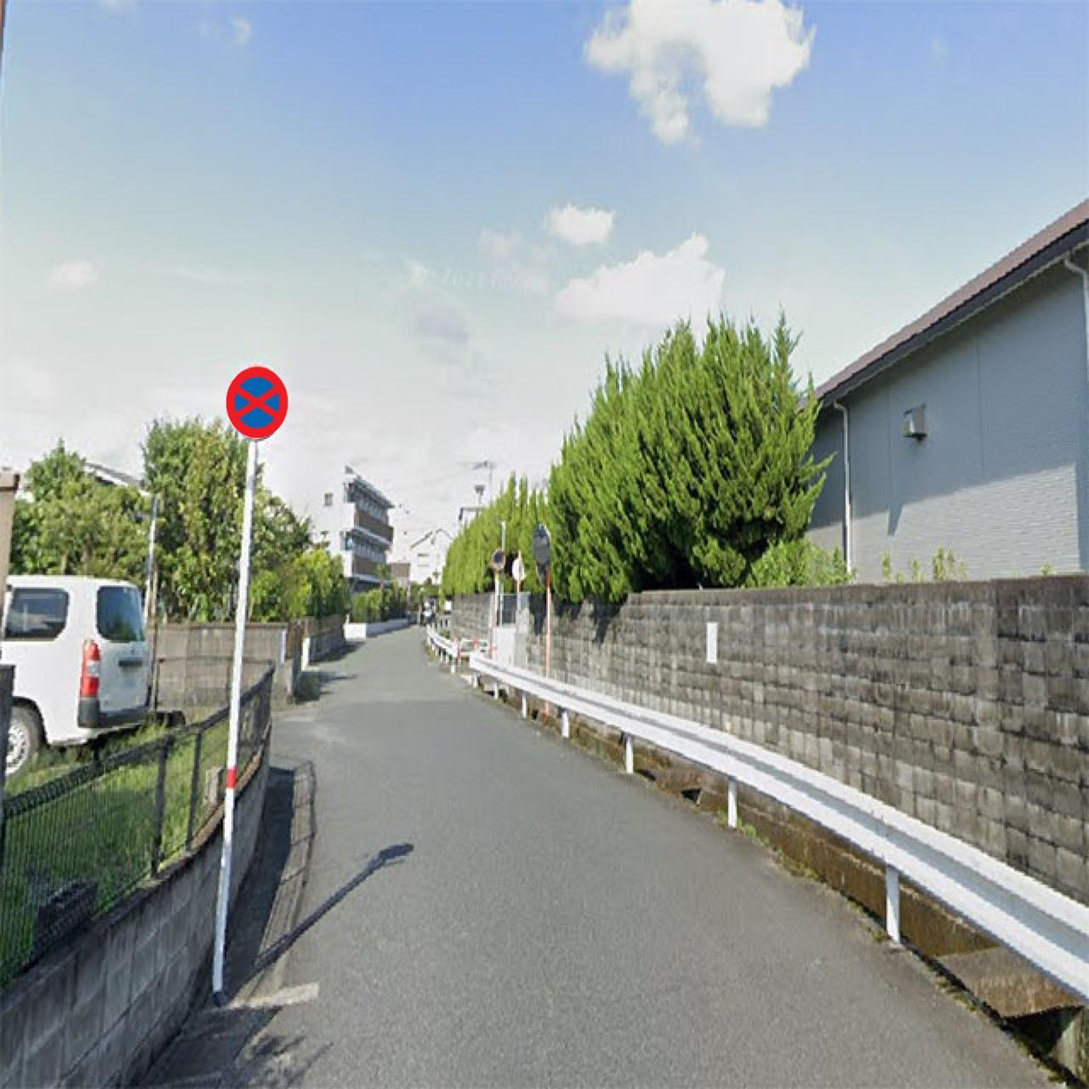stop_sign: (223, 362, 294, 438)
